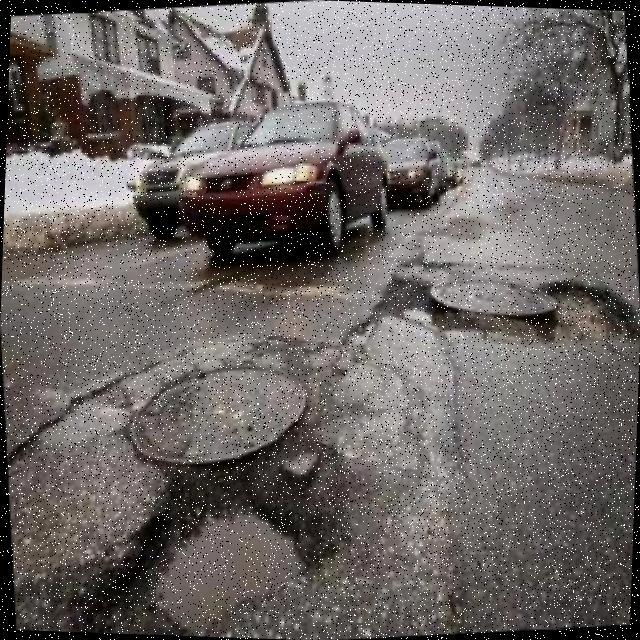Pothole: (15, 425, 347, 636), (369, 273, 639, 341)
